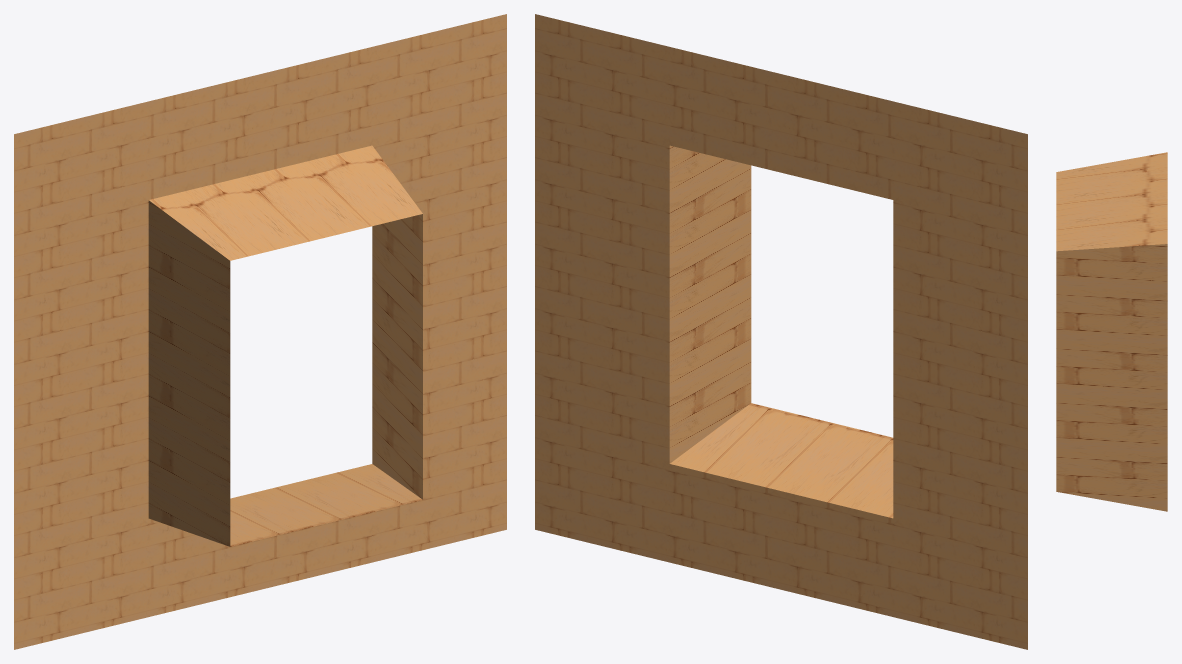
The model's file is Window_Small.fbx.
3 views of the same model, side by side, from view 1: azimuth 30°, elevation 25°; view 2: azimuth 150°, elevation 25°; view 3: azimuth 270°, elevation 25° (orthographic). The views are drawn at different scales.
Visible parts, largest first — view 1: Window_Small; view 2: Window_Small; view 3: Window_Small.
Part boxes in pixels (x1,y1,x2,y2): Window_Small: (14,14,506,649); Window_Small: (535,14,1027,649); Window_Small: (1056,152,1167,511).
Size of the model in its own units: 400 by 400 by 93.01.
